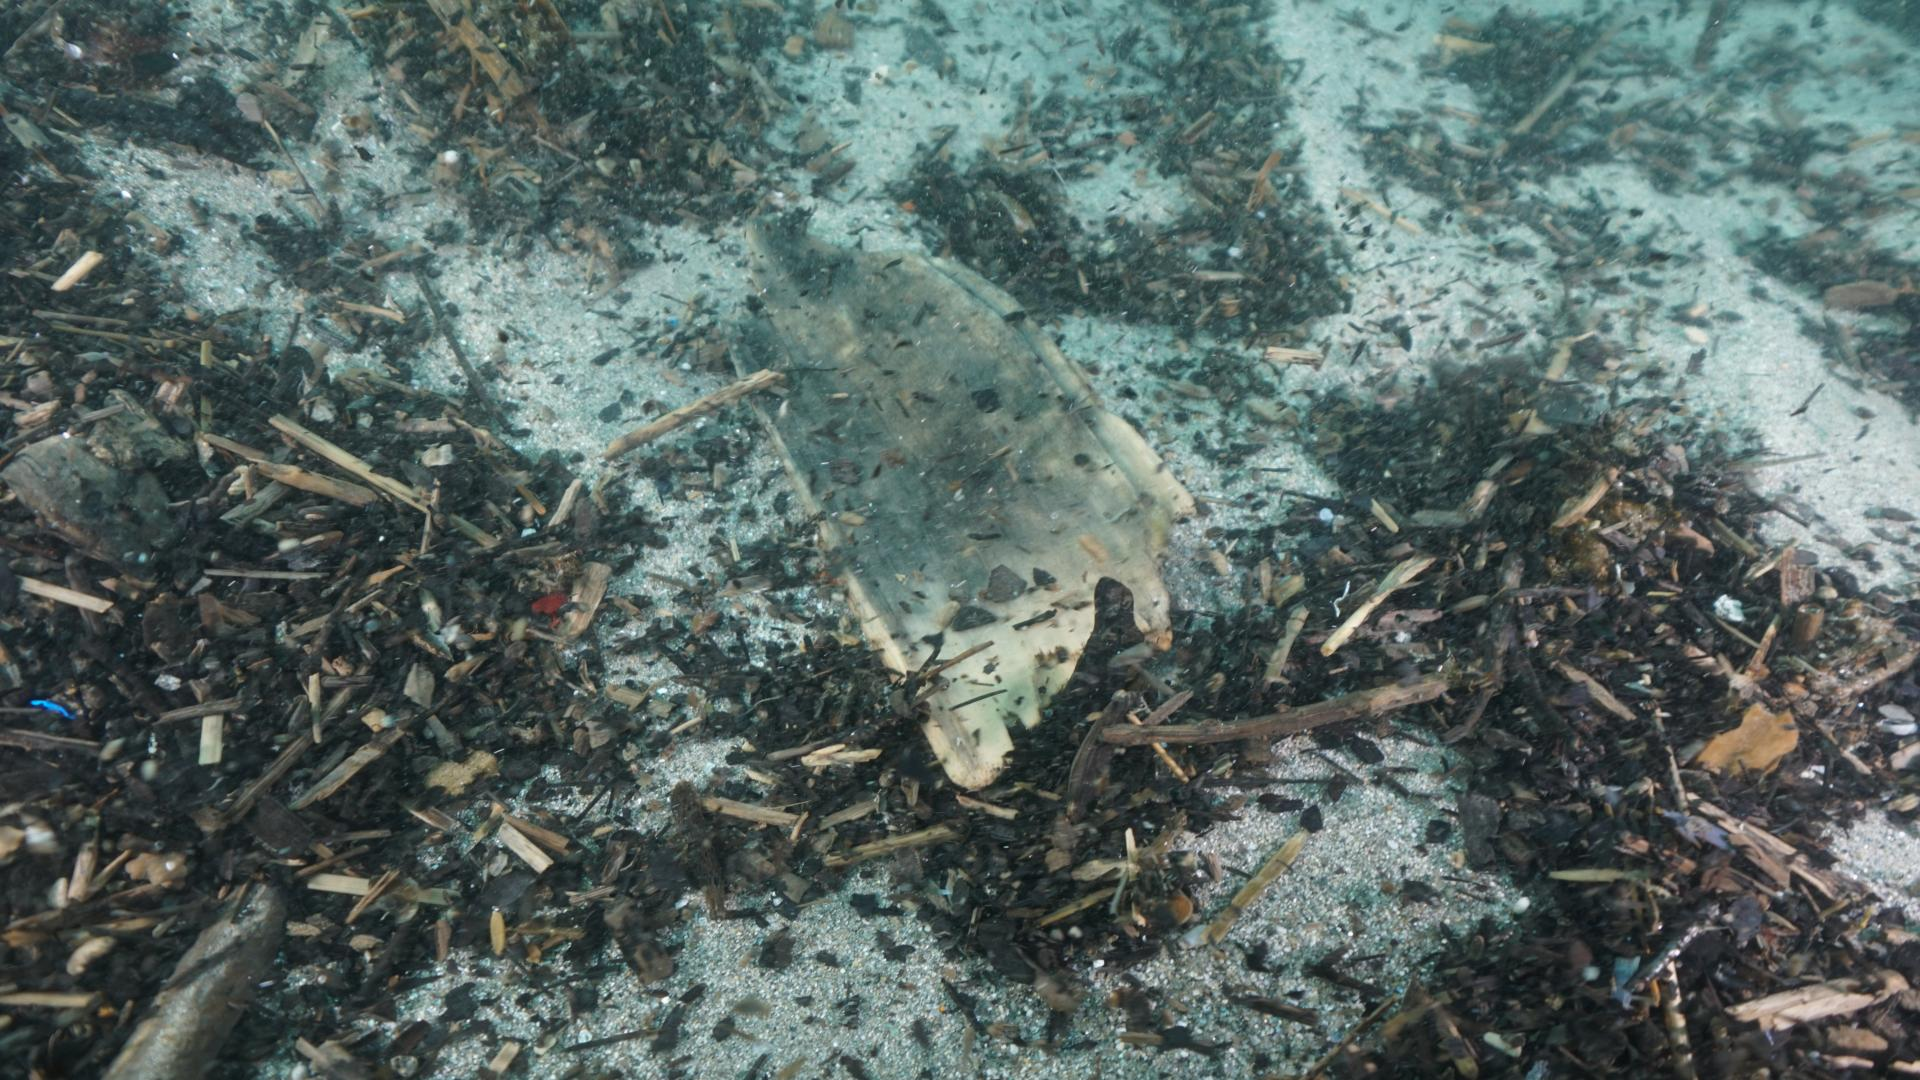wood: (724, 215, 1199, 791)
